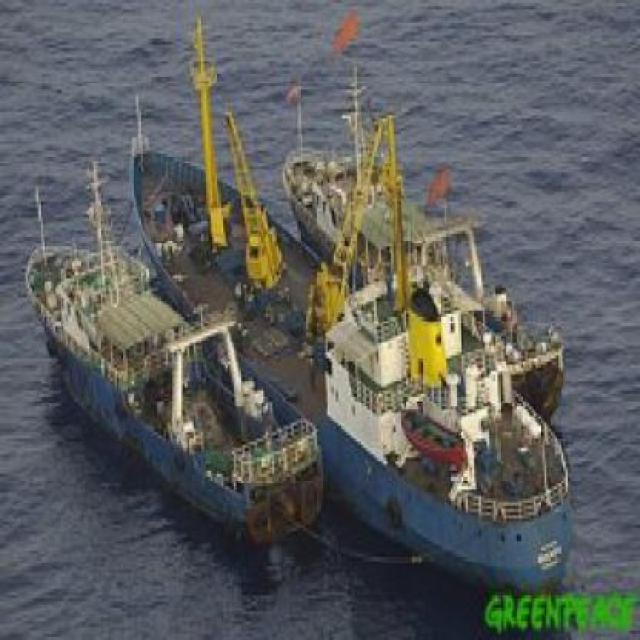fish-b: (22, 155, 333, 555), (279, 36, 571, 420)
